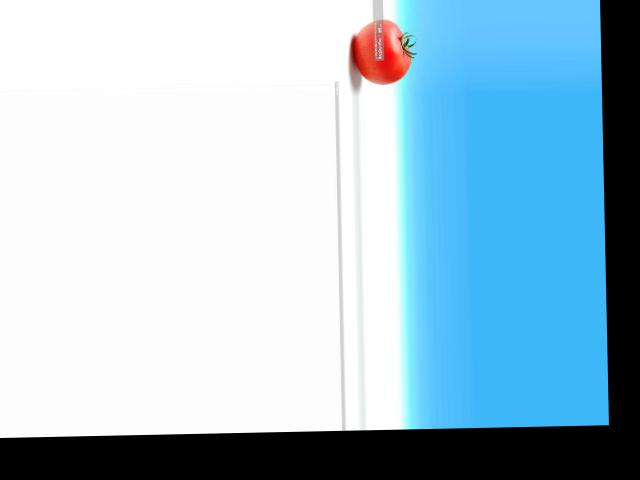tomato: (354, 18, 411, 84)
